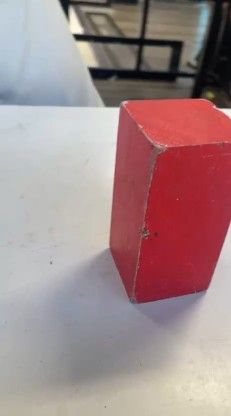red: (120, 97, 212, 308)
